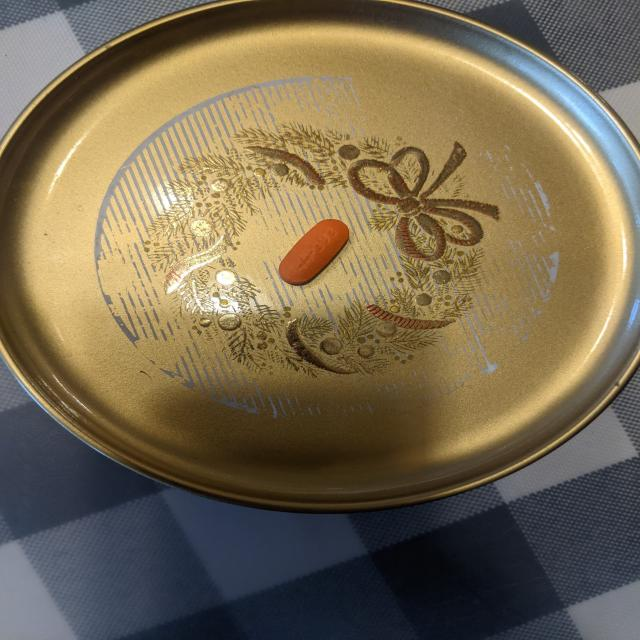non-organic waste: (277, 218, 350, 285)
